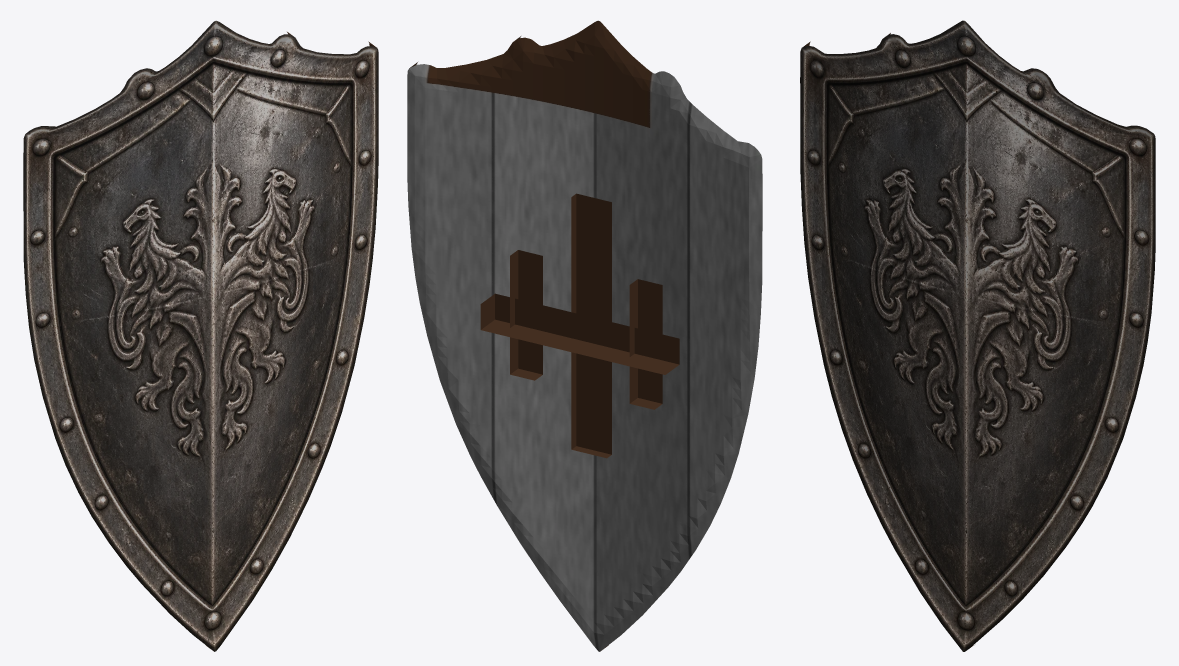
The model's file is shield-metal.glb.
The picture shows the model from 3 angles, left to right: view 1: azimuth 30°, elevation 25°; view 2: azimuth 150°, elevation 25°; view 3: azimuth 330°, elevation 25°; orthographic projection.
Parts seen in each view (by area): view 1: shield-metal; view 2: shield-metal; view 3: shield-metal.
Part boxes in pixels (bbox=[...]): shield-metal: bbox=[23, 20, 378, 651]; shield-metal: bbox=[407, 20, 762, 651]; shield-metal: bbox=[800, 20, 1155, 651].
Bounding box in the file's own units: 0.5007 × 0.8494 × 0.0853.
Materials: 1 (1 with a texture image).
